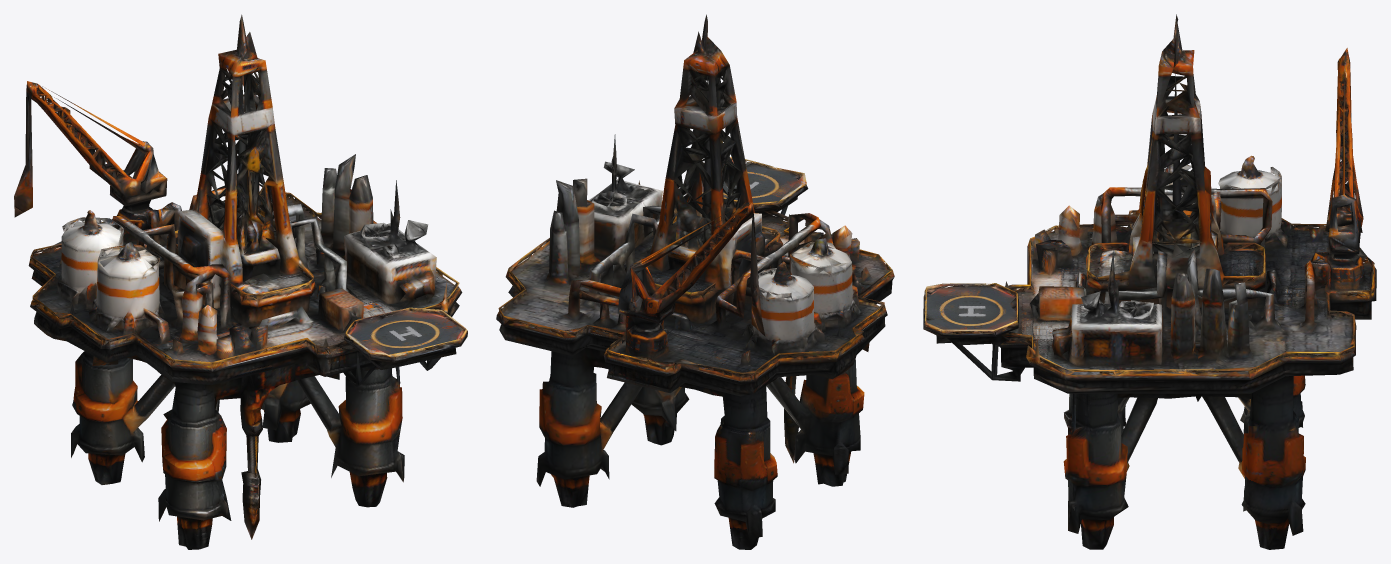
The model's file is building-extraction-rig-l2.glb.
3 views of the same model, side by side, from view 1: azimuth 30°, elevation 25°; view 2: azimuth 150°, elevation 25°; view 3: azimuth 270°, elevation 25° (orthographic). The views are drawn at different scales.
Parts seen in each view (by area): view 1: tripo_node_bc6dfcdf-d7a4-4666-b386-014fee19bb39; view 2: tripo_node_bc6dfcdf-d7a4-4666-b386-014fee19bb39; view 3: tripo_node_bc6dfcdf-d7a4-4666-b386-014fee19bb39.
Boxes of the visible parts, box(x1,y1,x2,y2) form: tripo_node_bc6dfcdf-d7a4-4666-b386-014fee19bb39: box(14, 14, 467, 549); tripo_node_bc6dfcdf-d7a4-4666-b386-014fee19bb39: box(496, 14, 894, 549); tripo_node_bc6dfcdf-d7a4-4666-b386-014fee19bb39: box(923, 14, 1376, 549).
Bounding box in the file's own units: 0.7154 × 0.9729 × 0.818.
1 material, 1 textured.
